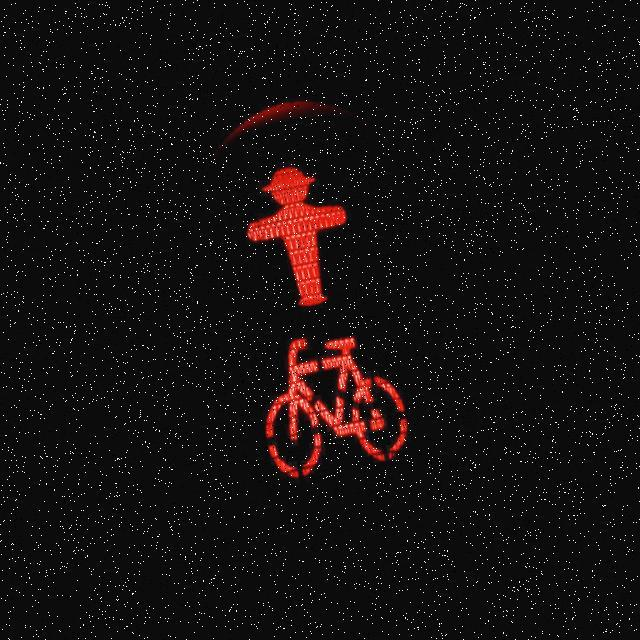red_light: (232, 150, 366, 322)
